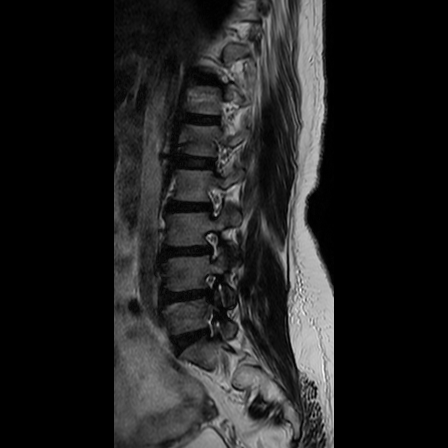RFS0: (195, 224, 232, 265)
